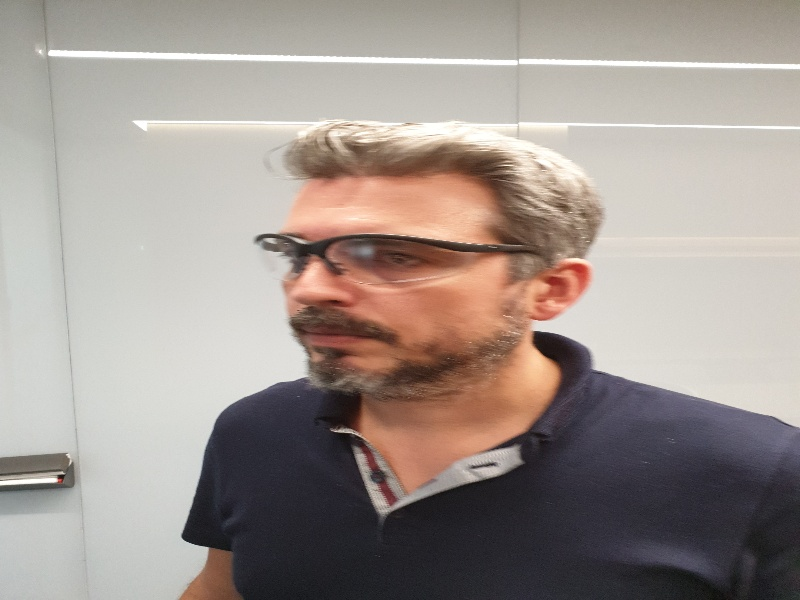Gozluk: (254, 231, 545, 289)
